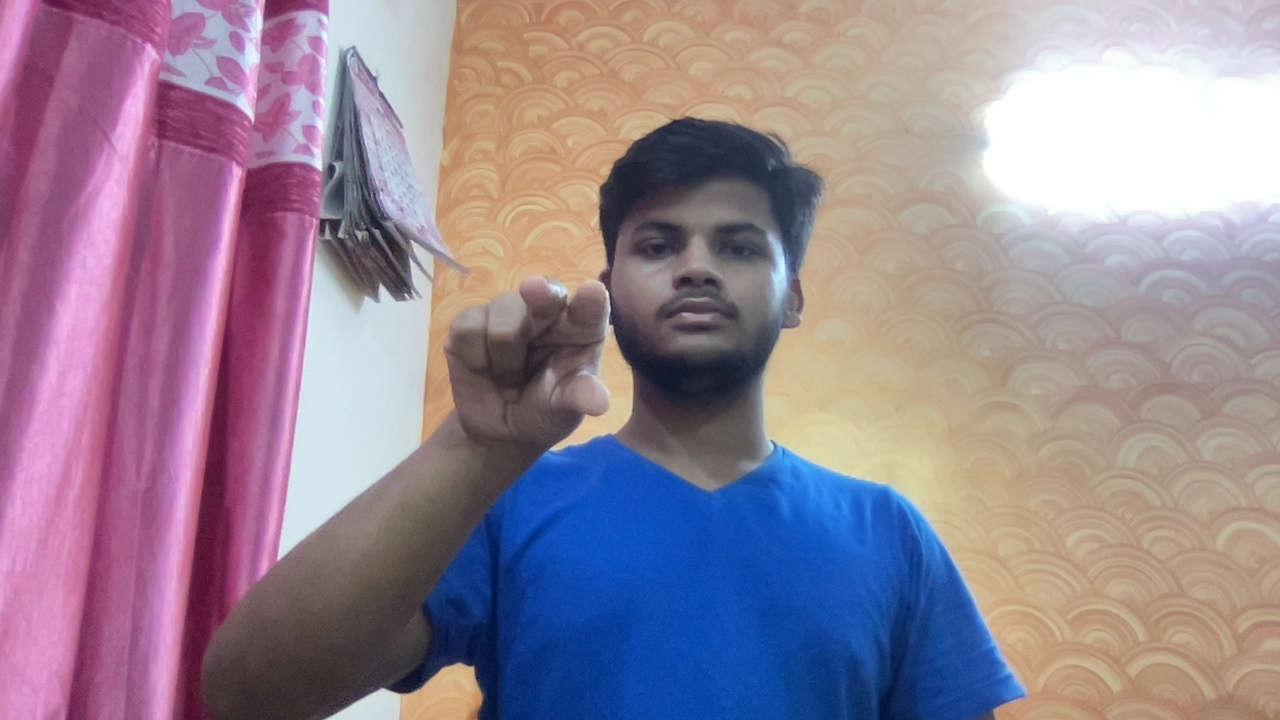no: (428, 267, 641, 453)
